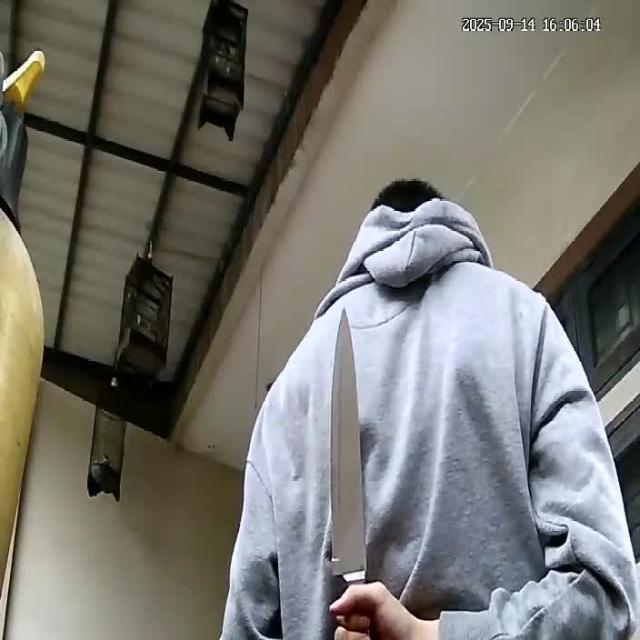senjata_tajam: (326, 304, 369, 586)
